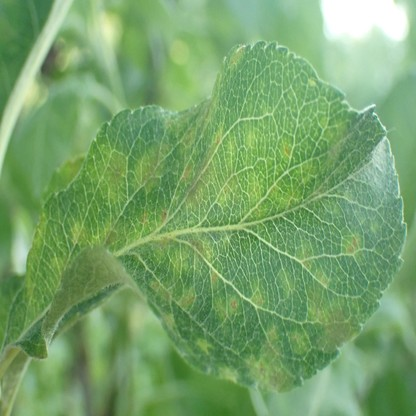scab: (29, 50, 379, 392)
